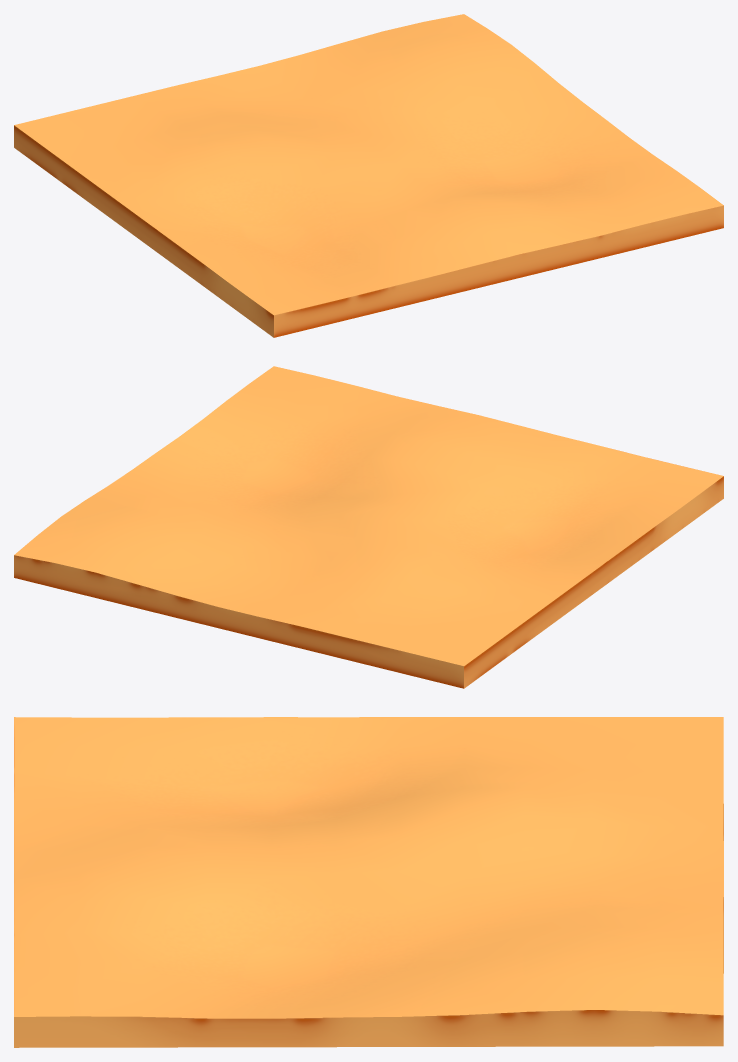
The model's file is floor.glb.
The picture shows the model from 3 angles, top to bottom: view 1: azimuth 30°, elevation 25°; view 2: azimuth 150°, elevation 25°; view 3: azimuth 270°, elevation 25°; orthographic projection. The views are drawn at different scales.
Parts seen in each view (by area): view 1: Floor; view 2: Floor; view 3: Floor.
Boxes of the visible parts, x1,y1,x2,y2 form: Floor: (14,14,723,337); Floor: (14,366,723,688); Floor: (14,717,723,1047).
Size of the model in its own units: 20.9 by 1.47 by 20.91.
1 material, 1 textured.
